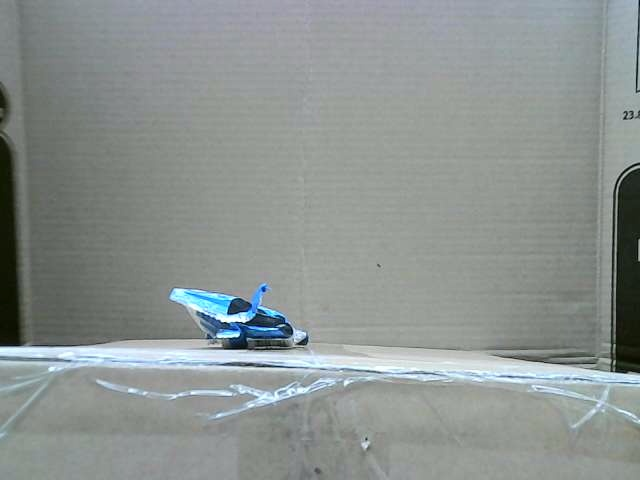CandyWrapper: (169, 283, 310, 347)
